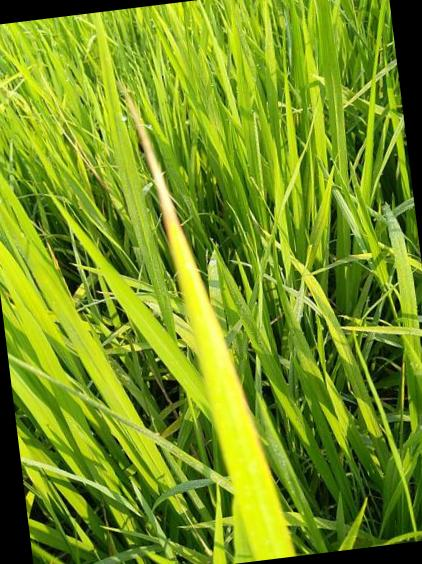Leaf Blight: (125, 93, 233, 400)
